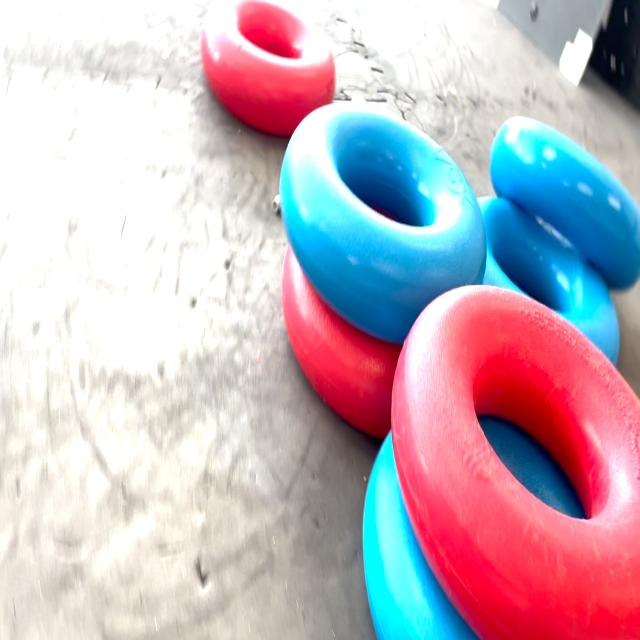Blue-Ring: (280, 102, 486, 343), (490, 116, 640, 289), (479, 198, 620, 364), (364, 433, 476, 640)
Red-Ring: (391, 287, 640, 638), (281, 244, 401, 438), (201, 0, 335, 136)
